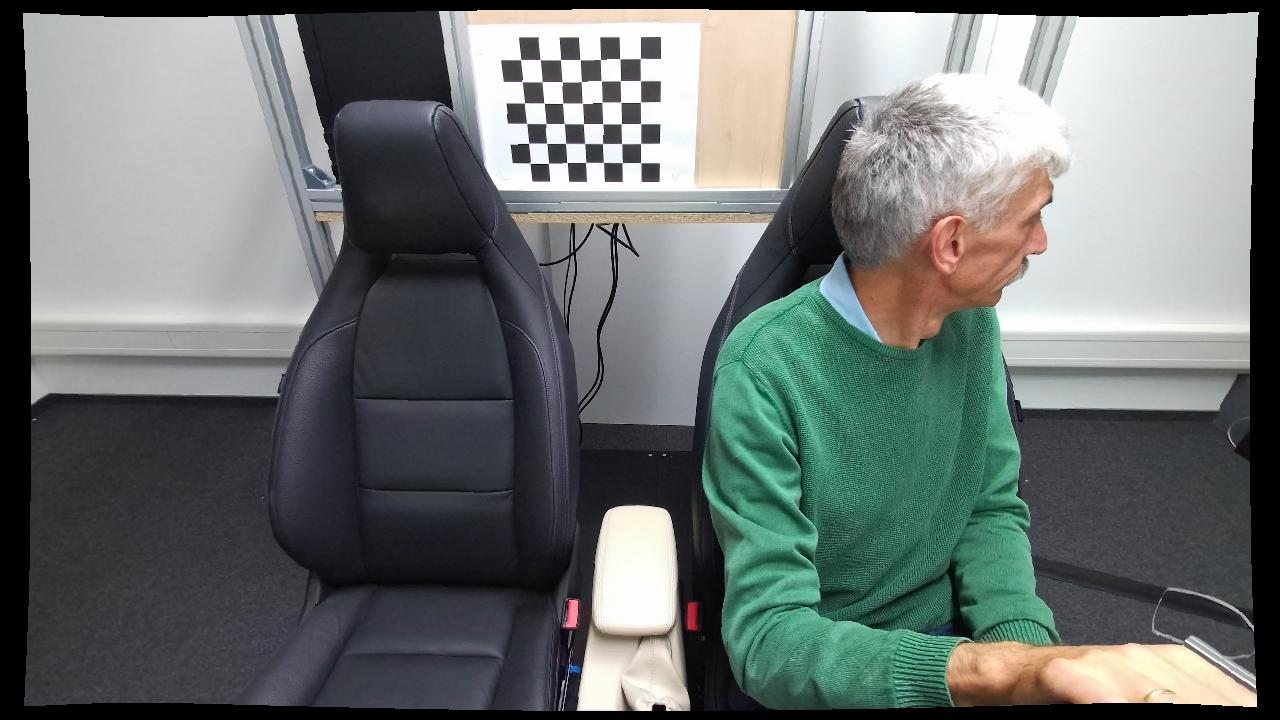Distracted: (698, 65, 1127, 699)
